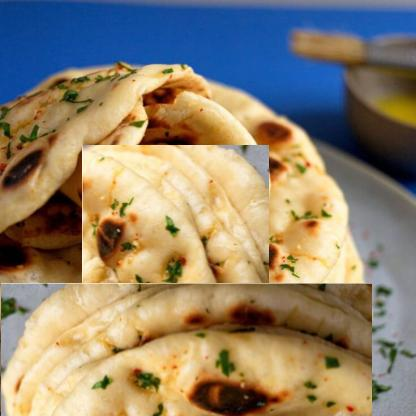naan: (0, 63, 348, 369), (41, 185, 310, 416), (0, 62, 267, 268), (0, 283, 372, 416)
